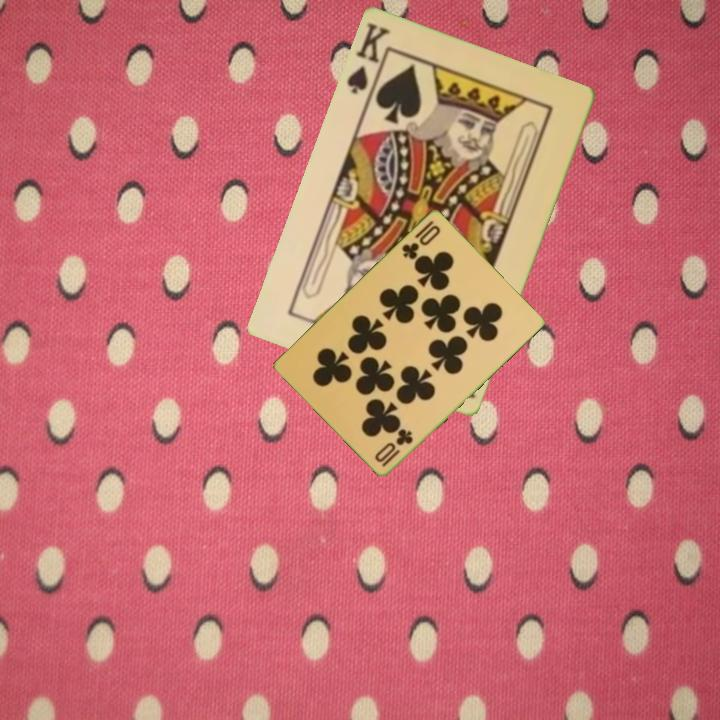10c: (398, 216, 443, 262), (371, 425, 416, 469)
Ks: (343, 19, 393, 105)
